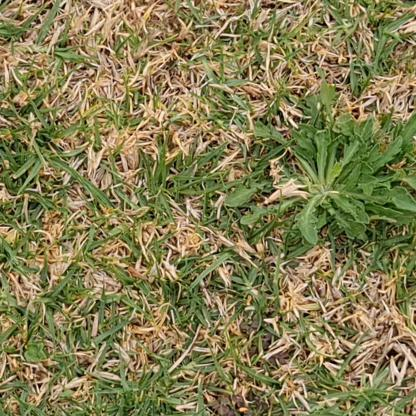Weeds: (230, 84, 415, 257)
